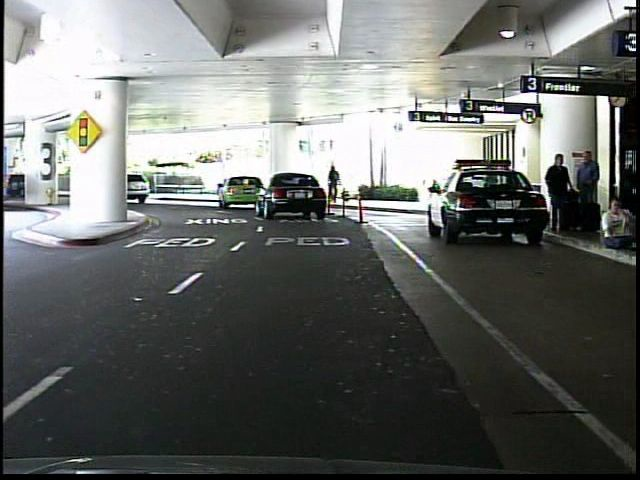person: (570, 146, 603, 236), (545, 153, 574, 240), (325, 161, 342, 205)
